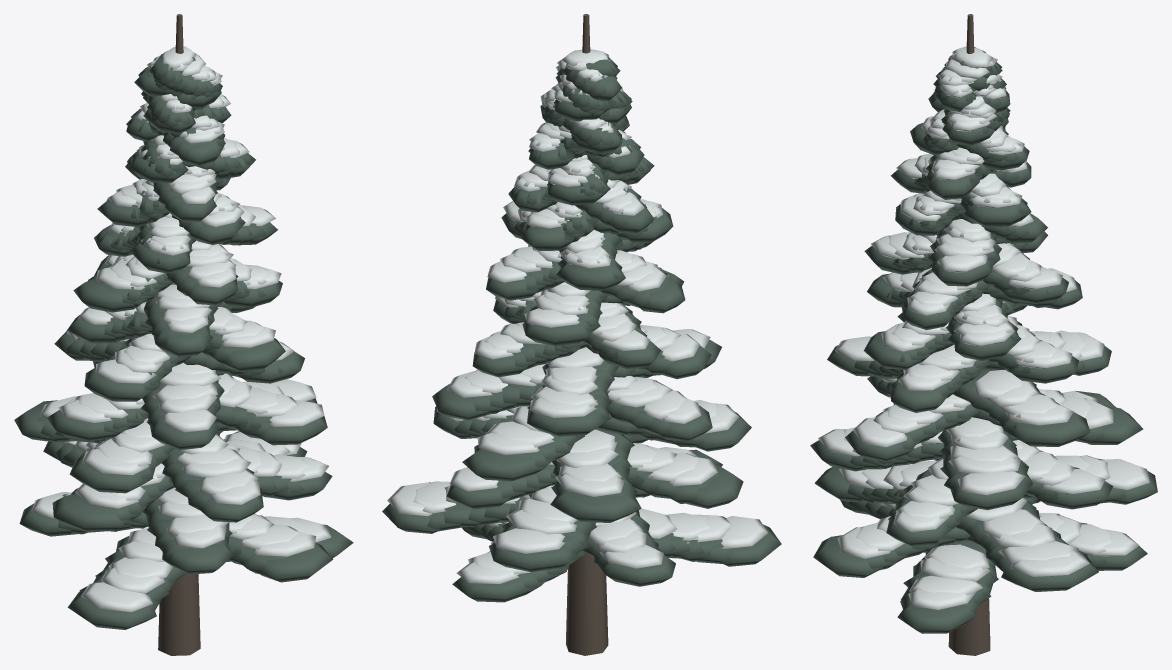
Rendered from SnowPine1.glb.
The picture shows the model from 3 angles, left to right: view 1: azimuth 30°, elevation 25°; view 2: azimuth 150°, elevation 25°; view 3: azimuth 270°, elevation 25°; orthographic projection.
Size of the model in its own units: 1.75 by 3.5 by 1.75.
